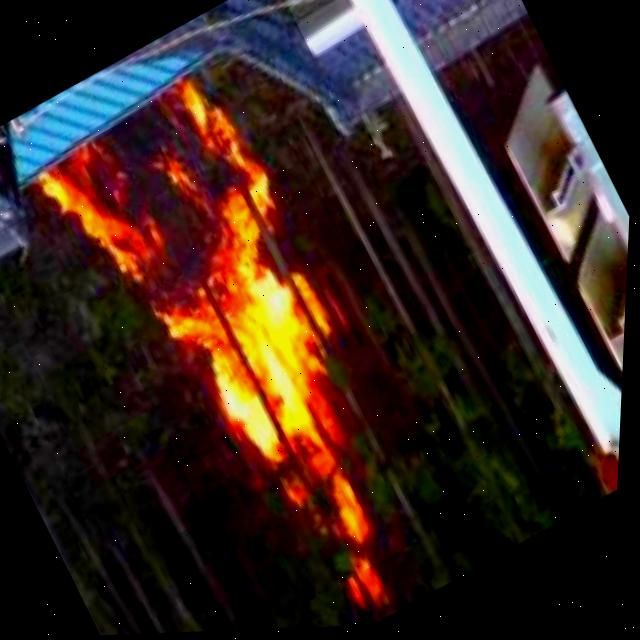Fire: (21, 63, 447, 606), (331, 542, 411, 629)
